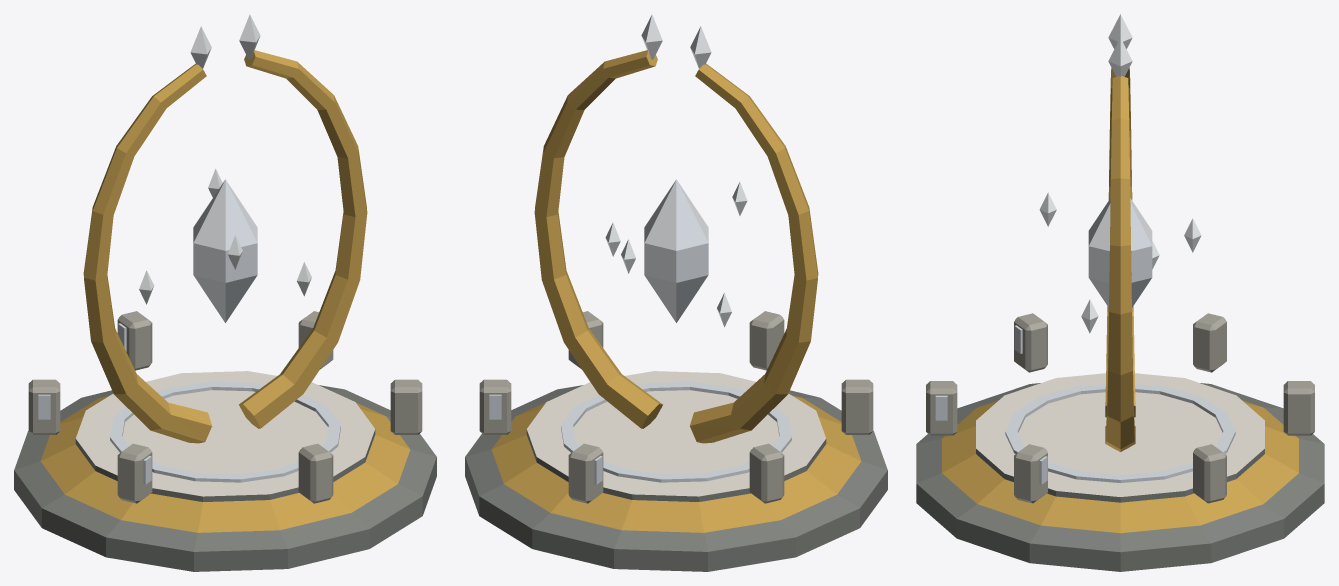
The model's file is WarpBeacon.obj.
3 renders of one model, left to right at view 1: azimuth 30°, elevation 25°; view 2: azimuth 150°, elevation 25°; view 3: azimuth 270°, elevation 25°, orthographic.
Bounding box in the file's own units: 4.8 × 5.79 × 4.68.
